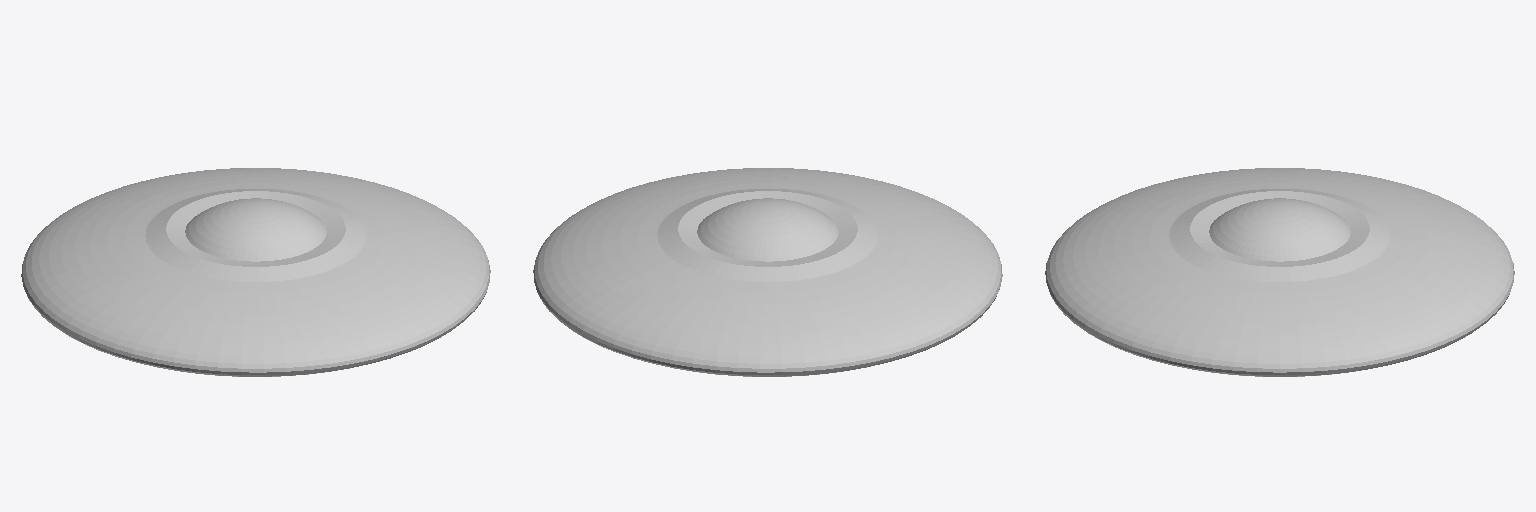
File: Ovni.obj
3 views of the same model, side by side, from view 1: azimuth 30°, elevation 25°; view 2: azimuth 150°, elevation 25°; view 3: azimuth 270°, elevation 25° (orthographic).
Parts seen in each view (by area): view 1: Sphere, Sphere.001; view 2: Sphere, Sphere.001; view 3: Sphere, Sphere.001.
Part boxes in pixels (x1,y1,x2,y2): Sphere: (21, 168, 490, 376); Sphere.001: (185, 198, 326, 261); Sphere: (533, 168, 1002, 376); Sphere.001: (697, 198, 838, 261); Sphere: (1045, 168, 1514, 376); Sphere.001: (1209, 198, 1350, 261).
Size of the model in its own units: 0.2206 by 0.0483 by 0.2206.